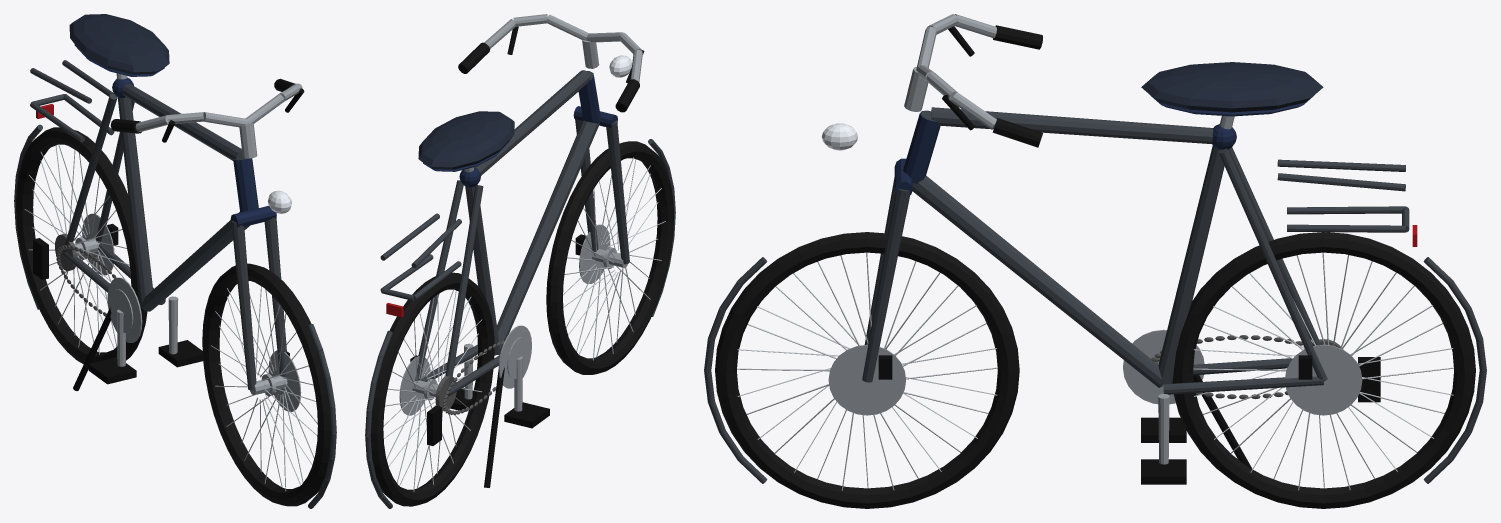
File: Bicycle.glb
The picture shows the model from 3 angles, left to right: view 1: azimuth 30°, elevation 25°; view 2: azimuth 150°, elevation 25°; view 3: azimuth 270°, elevation 25°; orthographic projection. The views are drawn at different scales.
Parts seen in each view (by area): view 1: Tyre, Tyre.001, Frame, Saddle, ForkLeg.001, ForkLeg, Seatstay.001, FenderFront, HandlebarRun, HeadTube, RotorFront, Chainring (+21 smaller); view 2: Tyre, Tyre.001, Frame, Saddle, Seatstay.001, ForkLeg.001, Seatstay, FenderRear, HandlebarRun.001, RotorFront, RotorRear, Chainring (+20 smaller); view 3: Tyre, Tyre.001, Frame, Saddle, RotorFront, RotorRear, ForkLeg, Seatstay, FenderFront, FenderRear, Chainring, Chainstay (+12 smaller).
Boxes of the visible parts, x1=… form: Tyre: x1=202, y1=263, x2=330, y2=506; Tyre.001: x1=16, y1=127, x2=147, y2=364; Frame: x1=117, y1=84, x2=249, y2=311; Saddle: x1=69, y1=14, x2=169, y2=74; ForkLeg.001: x1=231, y1=221, x2=256, y2=390; ForkLeg: x1=264, y1=217, x2=286, y2=377; Seatstay.001: x1=62, y1=94, x2=117, y2=252; FenderFront: x1=308, y1=324, x2=336, y2=508; HandlebarRun: x1=135, y1=112, x2=248, y2=131; HeadTube: x1=233, y1=158, x2=258, y2=212; RotorFront: x1=268, y1=350, x2=301, y2=411; Chainring: x1=107, y1=277, x2=142, y2=342; Tyre: x1=546, y1=141, x2=674, y2=374; Tyre.001: x1=370, y1=272, x2=494, y2=506; Frame: x1=465, y1=70, x2=599, y2=355; Saddle: x1=418, y1=111, x2=514, y2=169; Seatstay.001: x1=445, y1=185, x2=483, y2=391; ForkLeg.001: x1=606, y1=120, x2=629, y2=264; Seatstay: x1=415, y1=180, x2=463, y2=380; FenderRear: x1=365, y1=330, x2=392, y2=508; HandlebarRun.001: x1=484, y1=14, x2=588, y2=48; RotorFront: x1=579, y1=224, x2=610, y2=283; RotorRear: x1=399, y1=356, x2=430, y2=415; Chainring: x1=498, y1=325, x2=531, y2=388; Tyre: x1=715, y1=232, x2=1019, y2=508; Tyre.001: x1=1172, y1=232, x2=1475, y2=508; Frame: x1=912, y1=107, x2=1228, y2=387; Saddle: x1=1141, y1=62, x2=1323, y2=112; RotorFront: x1=828, y1=344, x2=905, y2=415; RotorRear: x1=1285, y1=344, x2=1362, y2=415; ForkLeg: x1=862, y1=189, x2=909, y2=382; Seatstay: x1=1218, y1=148, x2=1327, y2=381; FenderFront: x1=704, y1=257, x2=767, y2=483; FenderRear: x1=1423, y1=257, x2=1486, y2=483; Chainring: x1=1123, y1=329, x2=1204, y2=404; Chainstay: x1=1163, y1=376, x2=1323, y2=394.
Size of the model in its own units: 0.5422 by 1.12 by 1.72.
